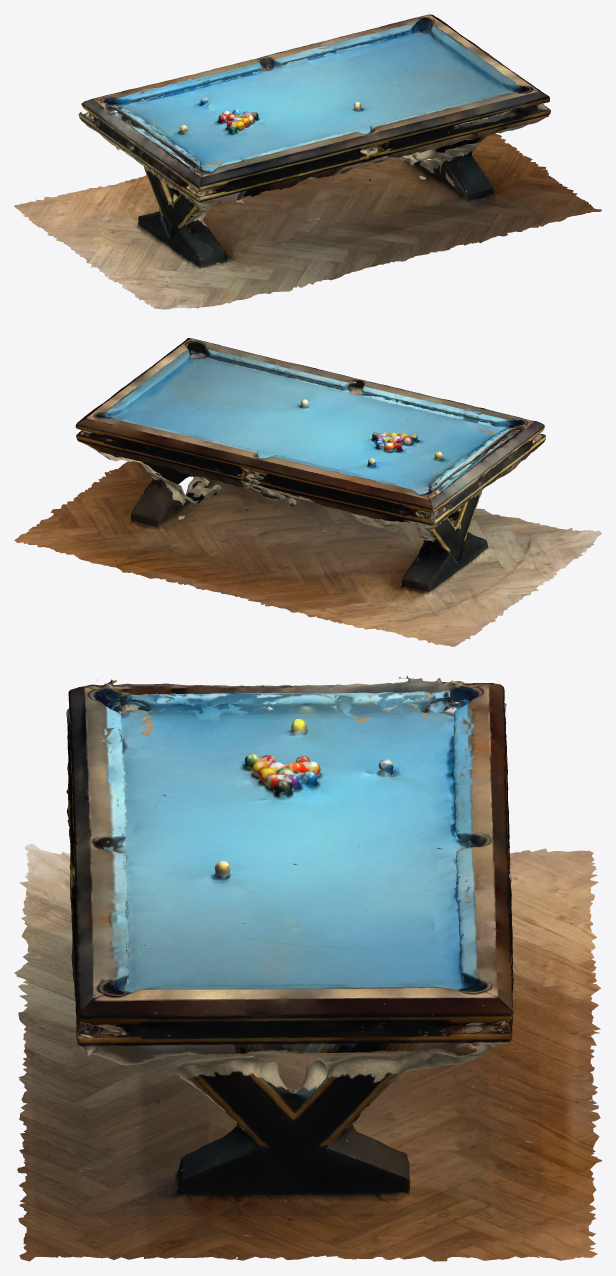
Rendered from PoolTable.glb.
3 views of the same model, one above another, from view 1: azimuth 30°, elevation 25°; view 2: azimuth 150°, elevation 25°; view 3: azimuth 270°, elevation 25° (orthographic). The views are drawn at different scales.
Parts seen in each view (by area): view 1: mesh.001; view 2: mesh.001; view 3: mesh.001.
Boxes of the visible parts, bbox=[...] form: mesh.001: bbox=[14, 14, 601, 309]; mesh.001: bbox=[14, 338, 601, 646]; mesh.001: bbox=[14, 676, 601, 1261].
Bounding box in the file's own units: 2.85 × 0.7446 × 1.72.
Materials: 1 (1 with a texture image).
